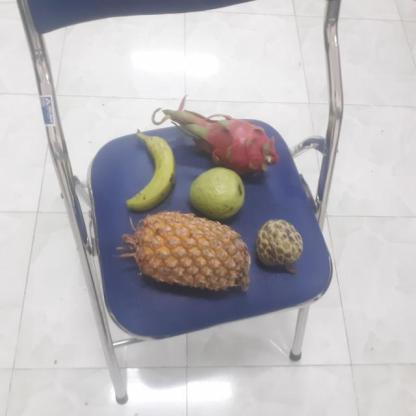annona: (253, 220, 303, 271)
banana: (123, 133, 176, 211)
guava: (186, 167, 247, 221)
pineapple: (128, 212, 249, 294)
pitaya: (176, 114, 273, 178)
